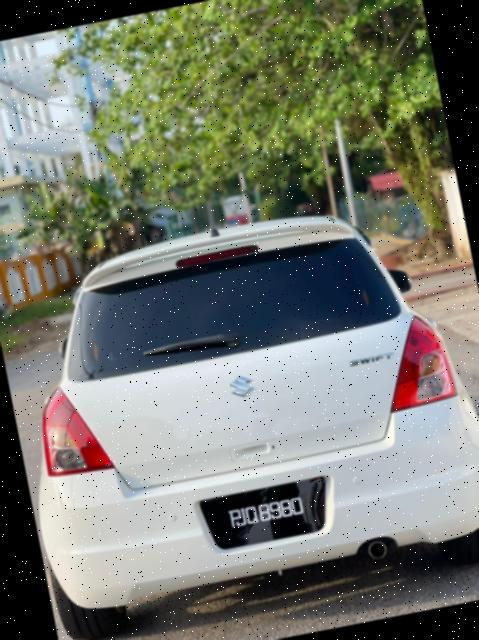License_Plate: (209, 484, 327, 550)
car: (1, 184, 479, 640)
